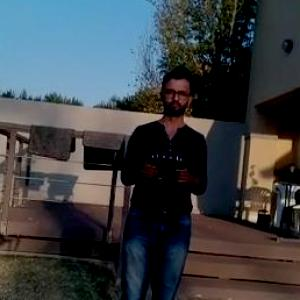follow: (113, 60, 213, 299)
